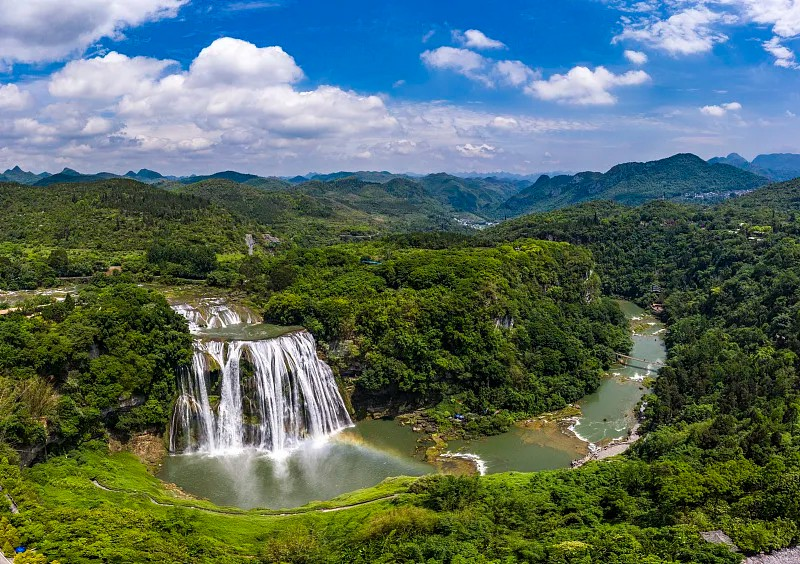Huangguoshu: (175, 306, 356, 453)
